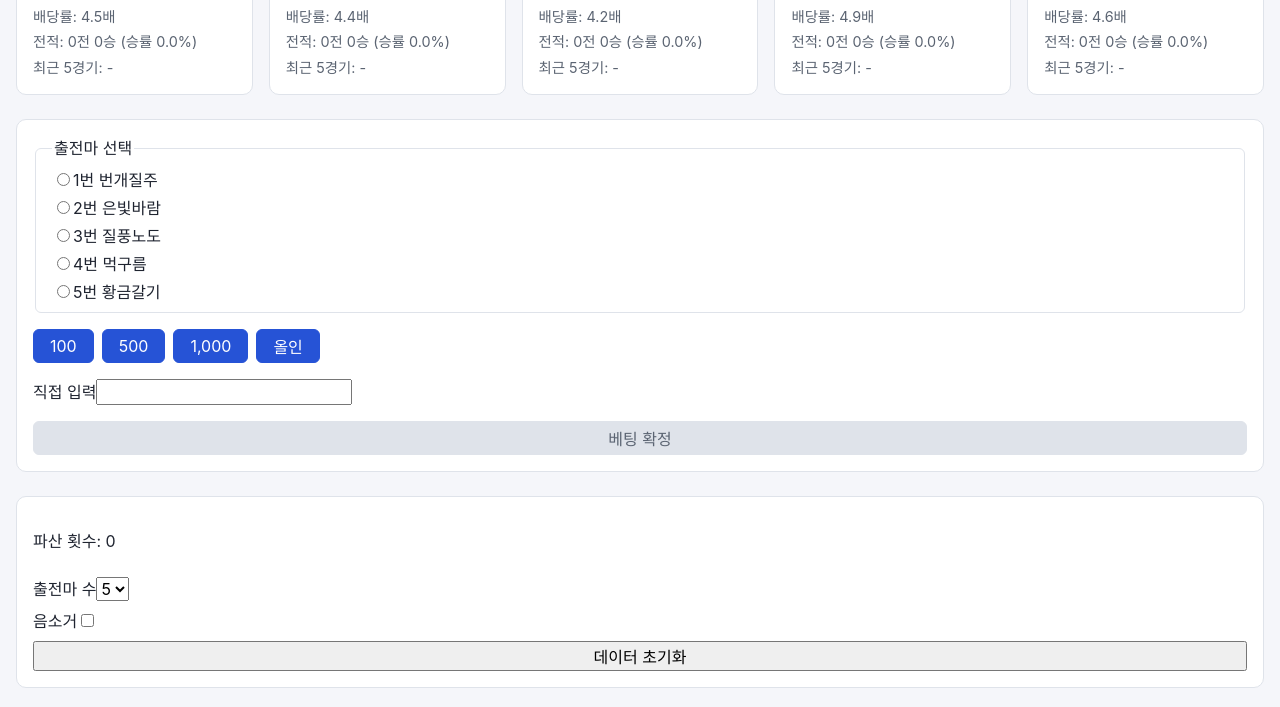
it: App › T19 이월 메모 해소: 설정 변경·초기화가 store에 실연결된다 › 초기화 시 저장 쓰기가 실패하면 저장 비활성 배너가 노출된다
The image size is (1280, 707).
(page scrolled)
Click the button "데이터 초기화". click: (640,656)
box: [33,641,1247,671]
(page scrolled)
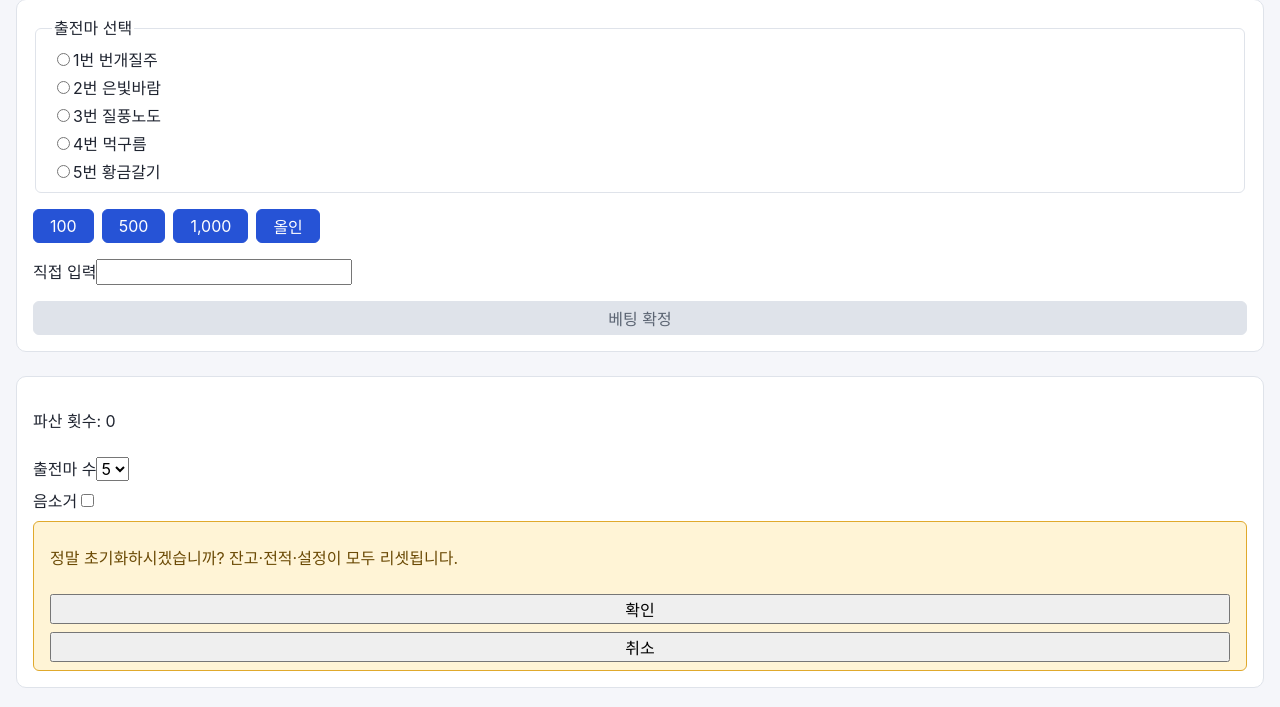
Click the button "확인". click: (640,609)
box: [50,594,1230,624]
(page scrolled)
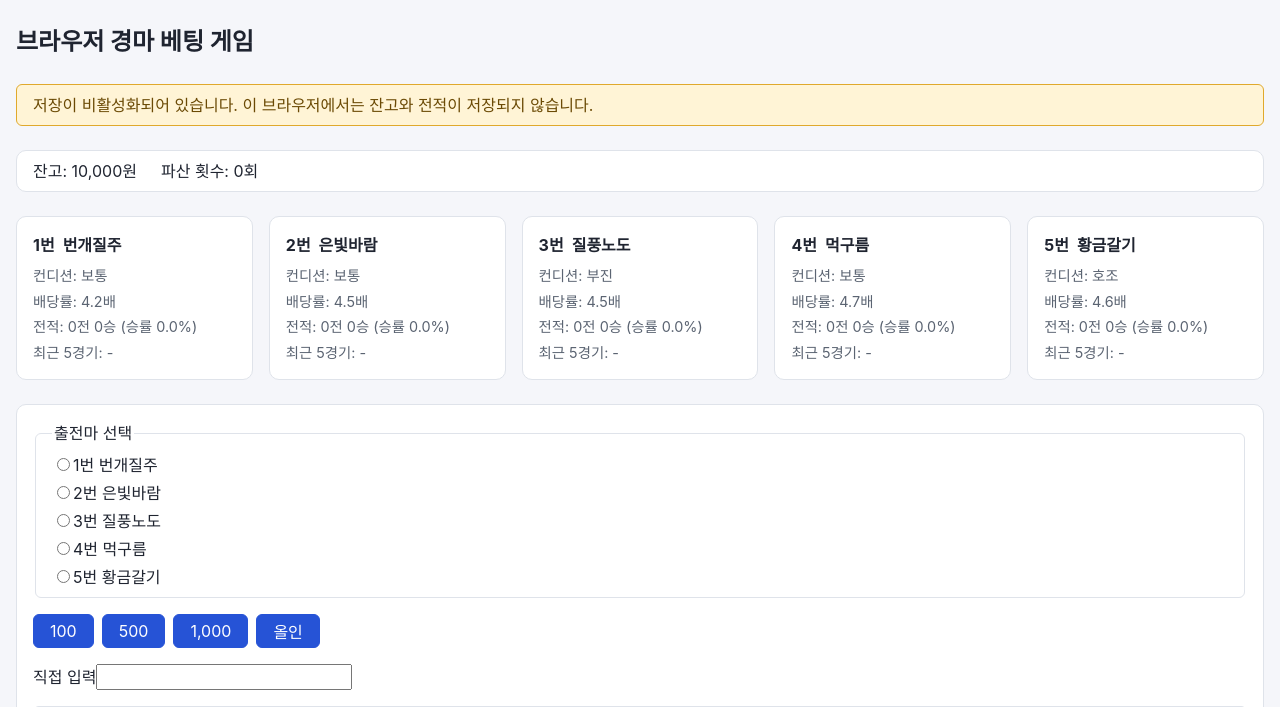
Now the message shows "저장이 비활성화", box [33,95,593,115]
